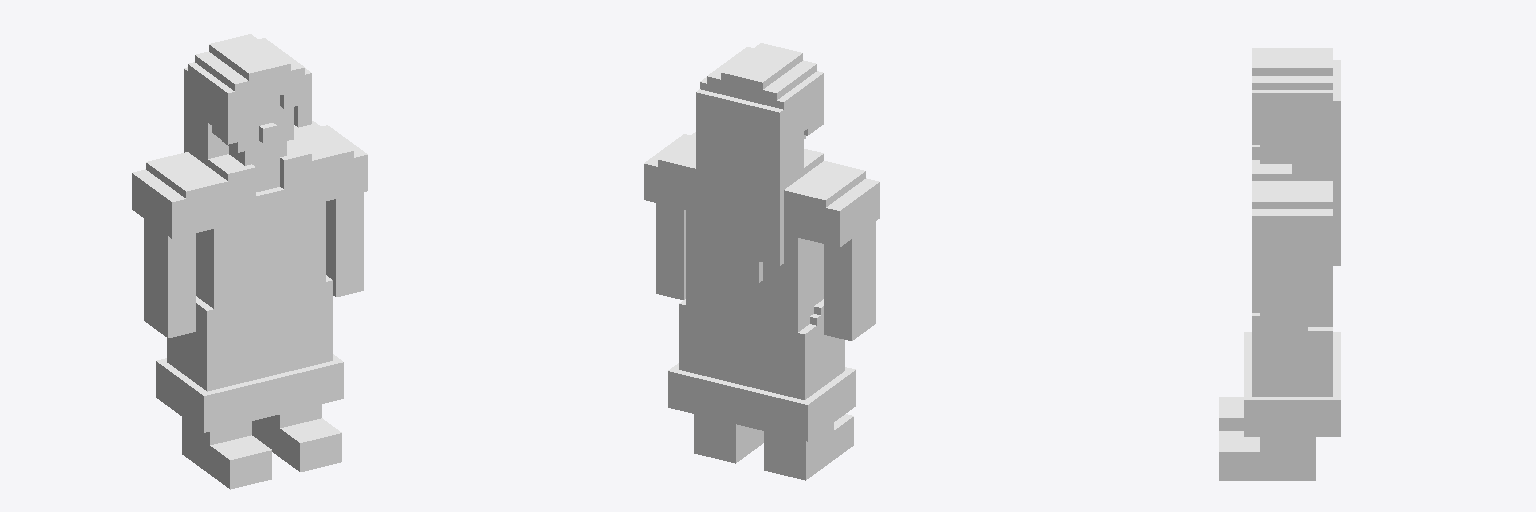
The model's file is aunt.obj.
3 renders of one model, left to right at view 1: azimuth 30°, elevation 25°; view 2: azimuth 150°, elevation 25°; view 3: azimuth 270°, elevation 25°, orthographic.
Bounding box in the file's own units: 28 × 54 × 15.